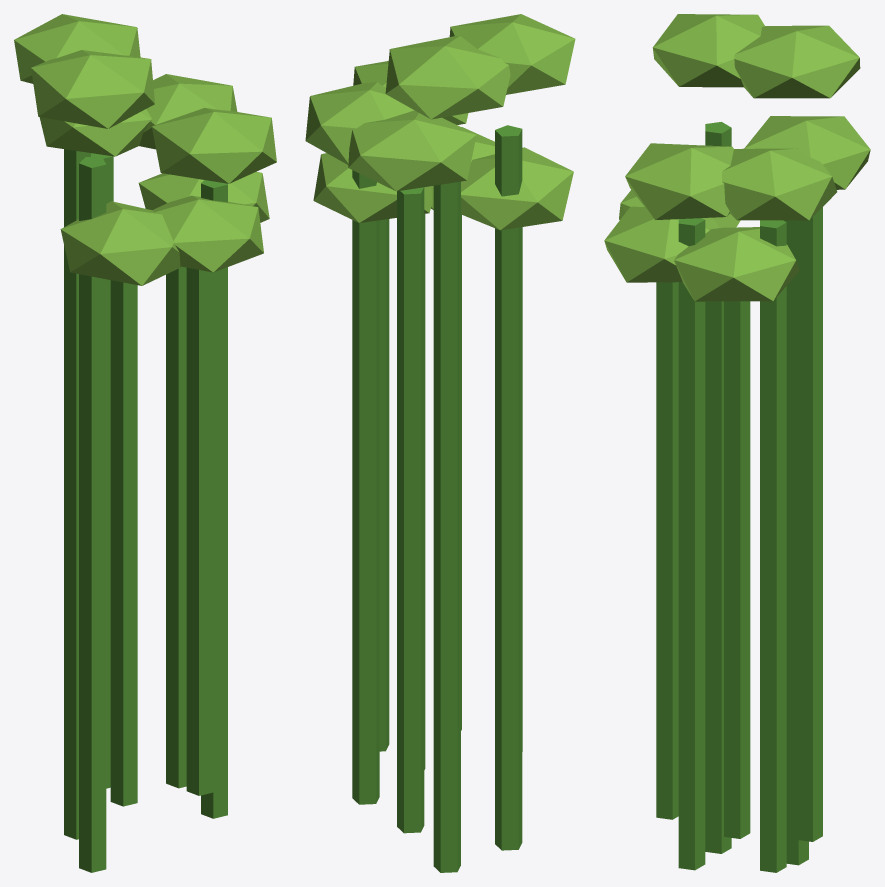
The model's file is bamboo_cluster.glb.
3 renders of one model, left to right at view 1: azimuth 30°, elevation 25°; view 2: azimuth 150°, elevation 25°; view 3: azimuth 270°, elevation 25°, orthographic. The views are drawn at different scales.
Parts seen in each view (by area): view 1: bamboo_cluster; view 2: bamboo_cluster; view 3: bamboo_cluster.
Boxes of the visible parts, x1,y1,x2,y2 form: bamboo_cluster: (14,14,276,872); bamboo_cluster: (305,14,575,872); bamboo_cluster: (604,14,870,872).
Size of the model in its own units: 1.31 by 4.38 by 1.27.
